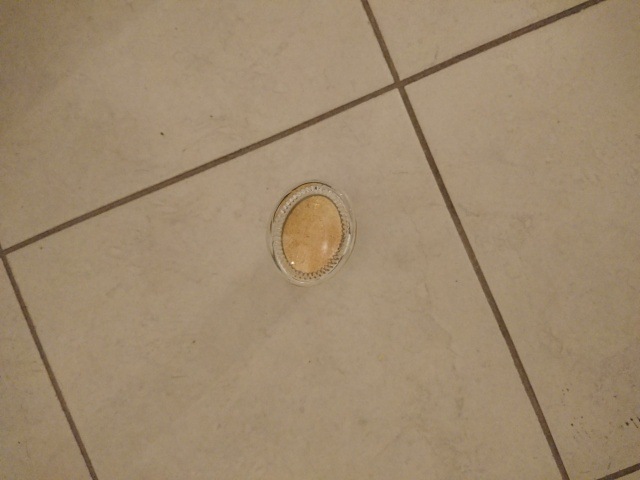Kotanyi Garlic Granules 70g: (265, 177, 358, 289)
